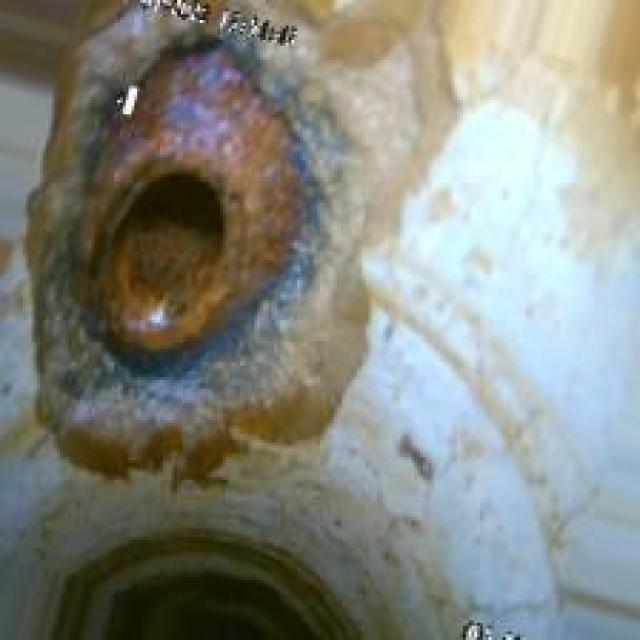ferrule: (52, 63, 357, 408)
